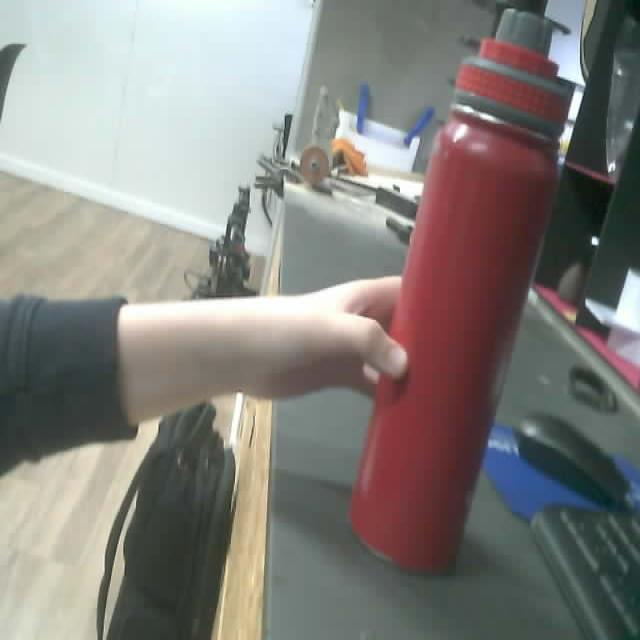water bottle: (347, 8, 573, 577)
